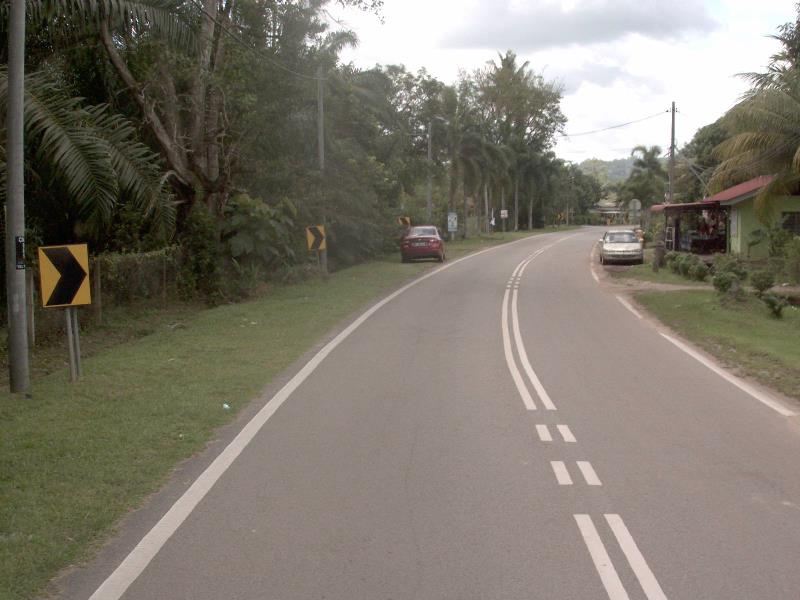traffic_sign: (28, 234, 100, 317)
